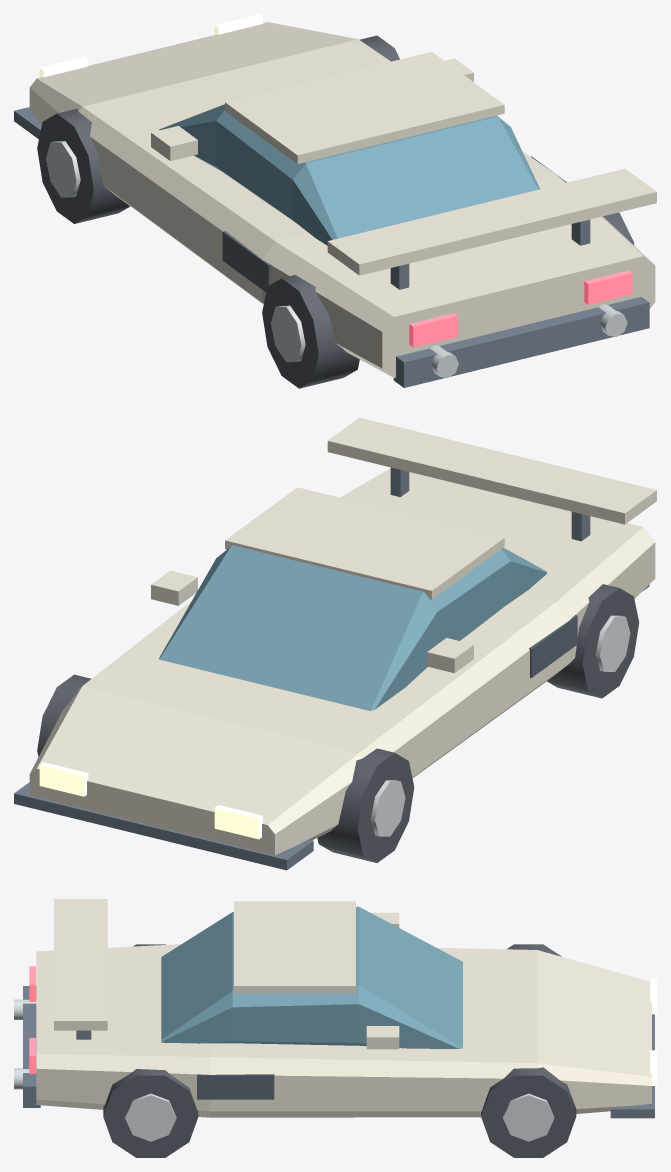
Rendered from supercar.glb.
3 views of the same model, one above another, from view 1: azimuth 30°, elevation 25°; view 2: azimuth 150°, elevation 25°; view 3: azimuth 270°, elevation 25° (orthographic). The views are drawn at different scales.
Parts seen in each view (by area): view 1: Faceted_Body, Glazed_Cabin, Roof, Rear_Spoiler, Tire (×2), Rear_Diffuser, Hub (×2), Side_Intake, Exhaust (×2), Wing_Mirror, Taillight_L, Taillight_R (+2 smaller); view 2: Faceted_Body, Glazed_Cabin, Roof, Rear_Spoiler, Tire (×3), Front_Splitter, Hub (×2), Wing_Mirror (×2), Side_Intake, Headlight_R, Headlight_L; view 3: Faceted_Body, Glazed_Cabin, Roof, Tire (×2), Rear_Spoiler, Hub (×2), Side_Intake, Rear_Diffuser, Wing_Mirror, Front_Splitter.
Part boxes in pixels (bbox=[...]): Faceted_Body: bbox=[29, 22, 655, 377]; Glazed_Cabin: bbox=[159, 104, 539, 245]; Roof: bbox=[225, 51, 504, 163]; Rear_Spoiler: bbox=[327, 168, 656, 275]; Tire (×2): bbox=[37, 108, 359, 388]; Rear_Diffuser: bbox=[393, 296, 649, 387]; Hub (×2): bbox=[46, 141, 305, 362]; Side_Intake: bbox=[222, 231, 270, 292]; Exhaust (×2): bbox=[430, 304, 627, 378]; Wing_Mirror: bbox=[151, 126, 197, 160]; Taillight_L: bbox=[409, 313, 457, 347]; Taillight_R: bbox=[584, 270, 632, 304]; Faceted_Body: bbox=[29, 468, 655, 855]; Glazed_Cabin: bbox=[159, 545, 547, 711]; Roof: bbox=[225, 487, 504, 599]; Rear_Spoiler: bbox=[327, 417, 656, 524]; Tire (×3): bbox=[37, 584, 639, 862]; Front_Splitter: bbox=[14, 782, 313, 870]; Hub (×2): bbox=[370, 615, 630, 836]; Wing_Mirror (×2): bbox=[151, 570, 473, 673]; Side_Intake: bbox=[529, 615, 577, 677]; Headlight_R: bbox=[39, 762, 88, 796]; Headlight_L: bbox=[214, 805, 262, 839]; Faceted_Body: bbox=[36, 944, 651, 1117]; Glazed_Cabin: bbox=[161, 906, 462, 1048]; Roof: bbox=[234, 901, 355, 993]; Tire (×2): bbox=[103, 1067, 576, 1157]; Rear_Spoiler: bbox=[54, 899, 107, 1030]; Hub (×2): bbox=[125, 1093, 554, 1141]; Side_Intake: bbox=[197, 1074, 274, 1099]; Rear_Diffuser: bbox=[23, 986, 40, 1107]; Wing_Mirror: bbox=[366, 1026, 399, 1049]; Front_Splitter: bbox=[610, 1014, 654, 1118].
Size of the model in its own units: 2.15 by 1.1 by 4.32.
